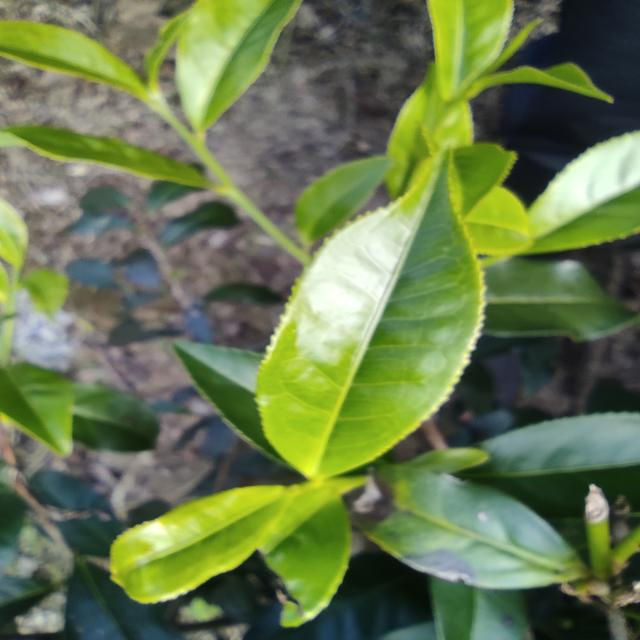Category B(2-4 days): (250, 144, 494, 484)
